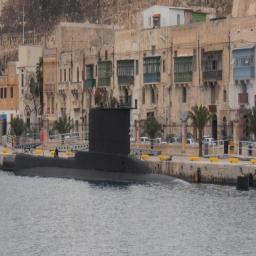submarine: (14, 105, 195, 188)
